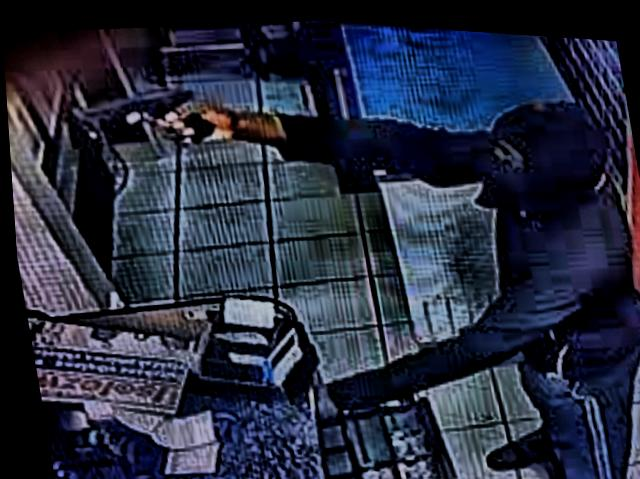pistol: (51, 68, 220, 154)
